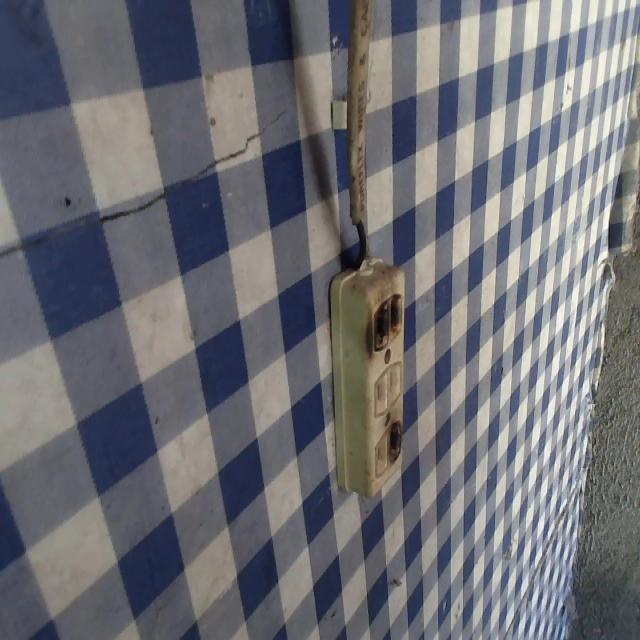-: (367, 287, 406, 352), (385, 419, 404, 461)
